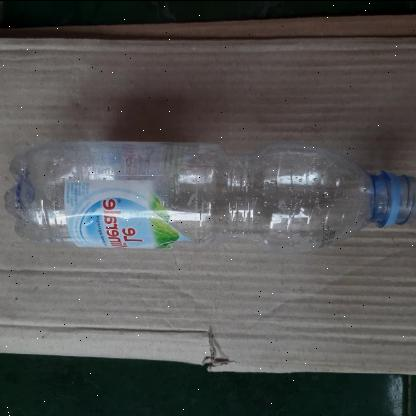Plastic Bottle: (0, 136, 416, 249)
